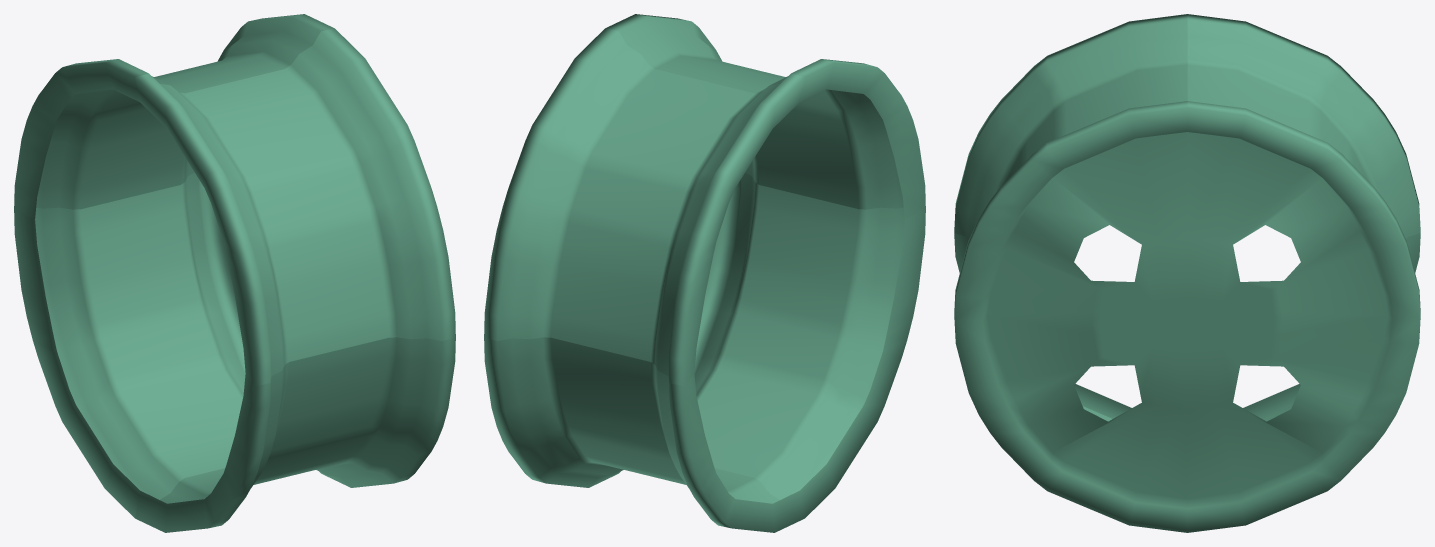
File: rin.fbx
3 renders of one model, left to right at view 1: azimuth 30°, elevation 25°; view 2: azimuth 150°, elevation 25°; view 3: azimuth 270°, elevation 25°, orthographic. The views are drawn at different scales.
Parts seen in each view (by area): view 1: llanta_final:Trailer_videojuego:RIN; view 2: llanta_final:Trailer_videojuego:RIN; view 3: llanta_final:Trailer_videojuego:RIN.
Boxes of the visible parts, box(x1,y1,x2,y2) form: llanta_final:Trailer_videojuego:RIN: box(14, 14, 455, 532); llanta_final:Trailer_videojuego:RIN: box(484, 14, 925, 532); llanta_final:Trailer_videojuego:RIN: box(954, 14, 1420, 532).
Bounding box in the file's own units: 0.4145 × 0.8467 × 0.841.
